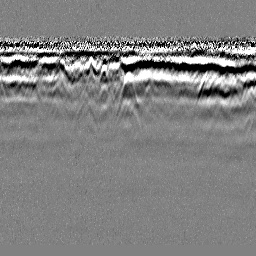cavity: (114, 69, 141, 122)
